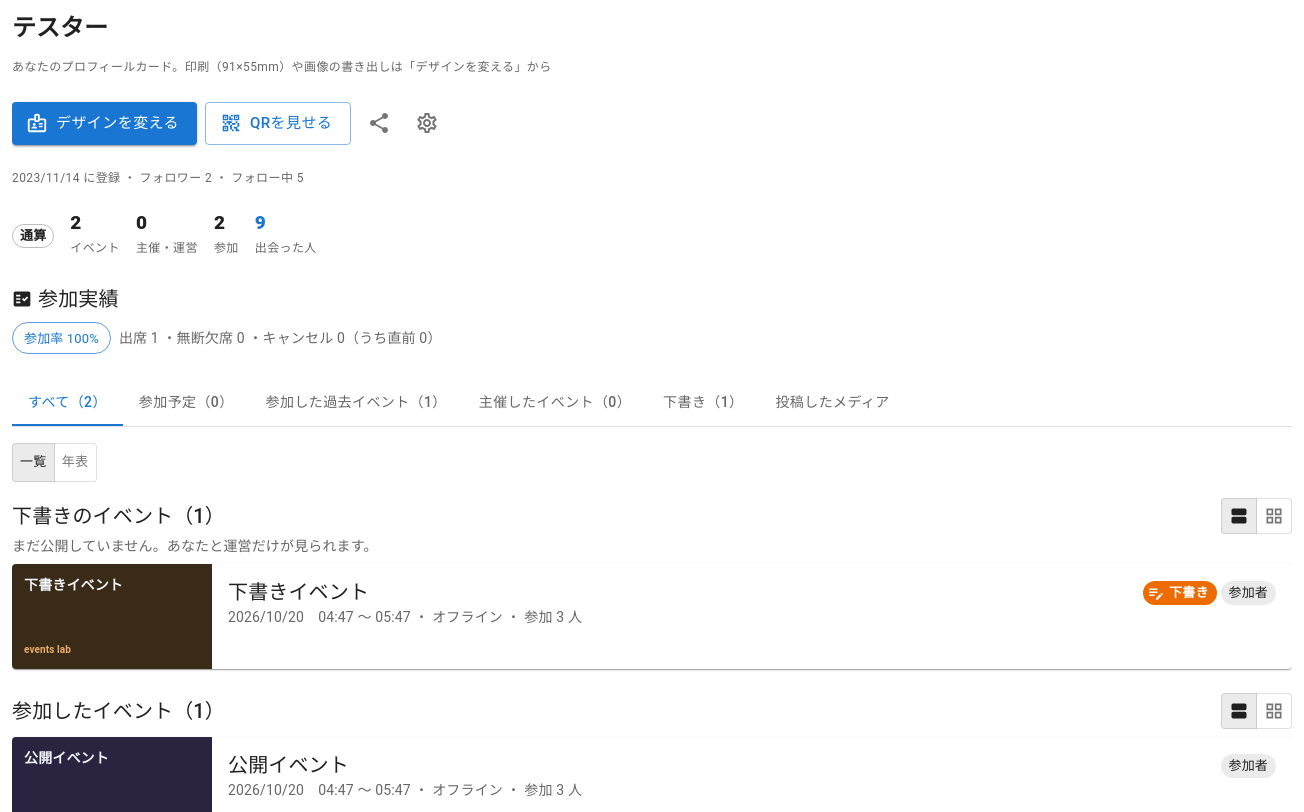
Scenario: 公開プロフィール（マイページ統合 #319） › 本人のページでは下書きを独立したタブに出す (#348, #407)
The image size is (1304, 812).
Click the tab "下書き（1）" at x=703, y=402, box 647,378 -> 760,426
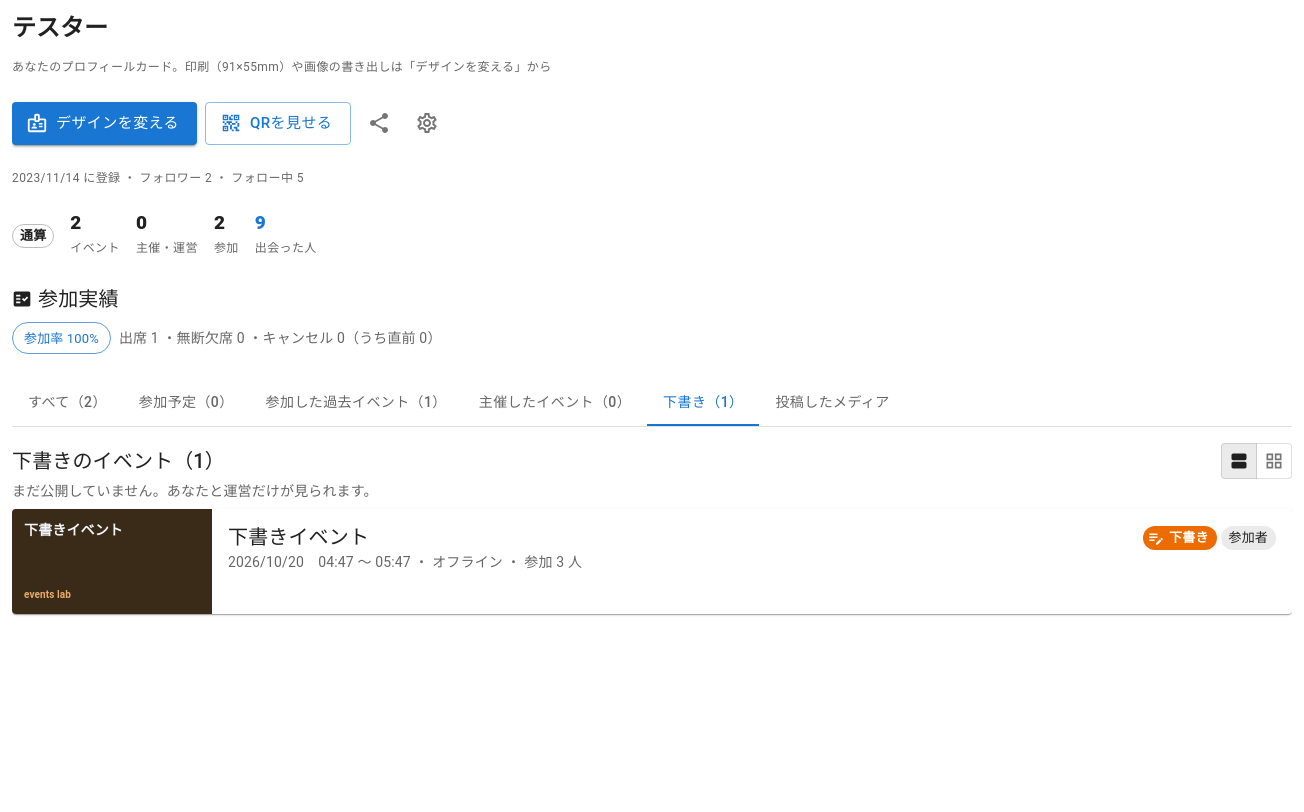
Expected: the heading "下書きのイベント（1）" is shown, 12,445 -> 225,477
Expected: the text "下書き" is shown once, 1169,530 -> 1209,545
